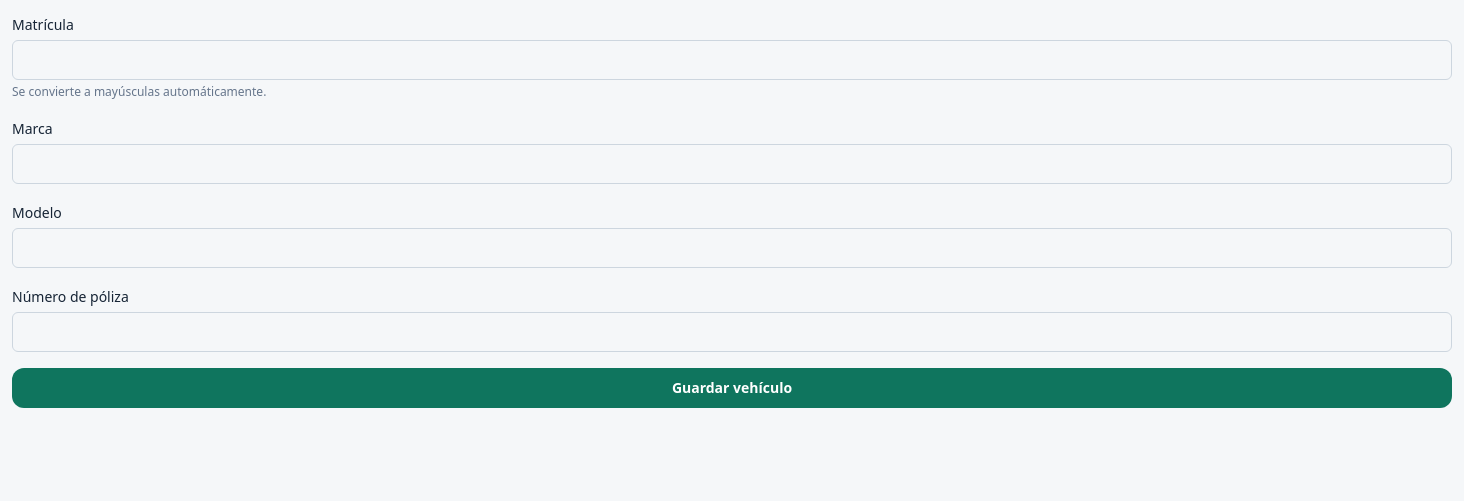
Test: VehicleForm › exige los campos obligatorios con mensajes por campo
Step 1. Click the button "Guardar vehículo" → (732, 388), box x1=12 y1=368 x2=1452 y2=408
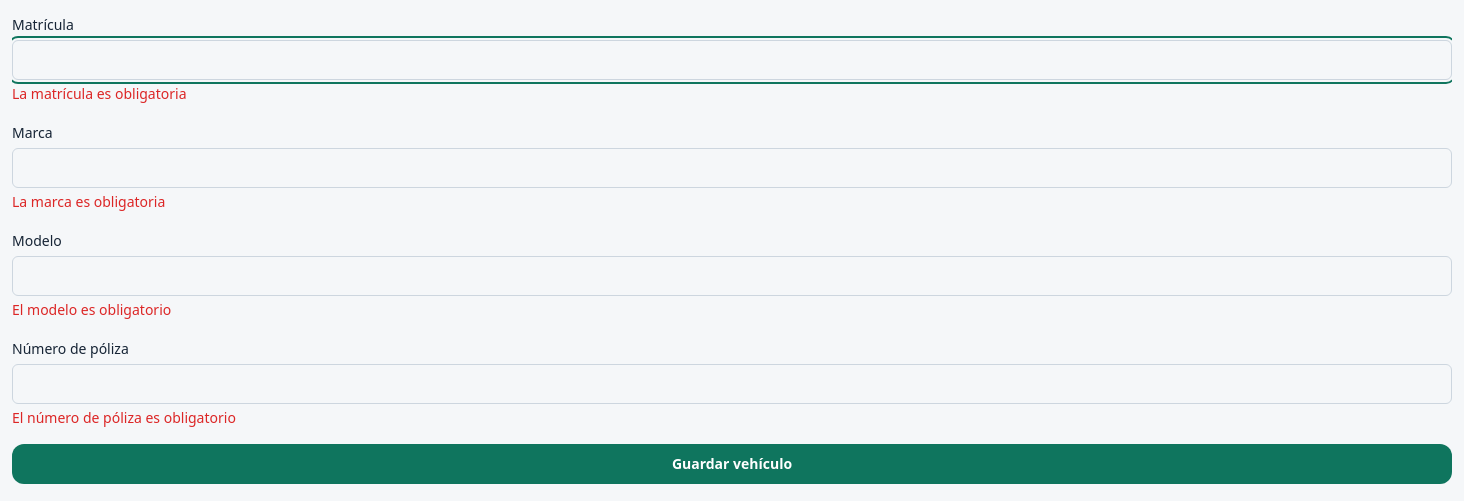
expect the text "La matrícula es obligatoria" is shown: met, box x1=12 y1=84 x2=186 y2=103
expect the text "La marca es obligatoria" is shown: met, box x1=12 y1=192 x2=165 y2=211
expect the text "El modelo es obligatorio" is shown: met, box x1=12 y1=300 x2=171 y2=319
